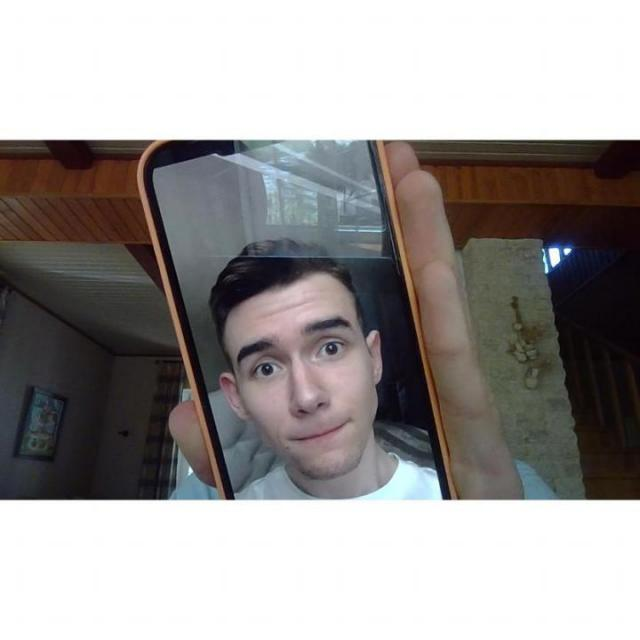device: (174, 142, 444, 499)
